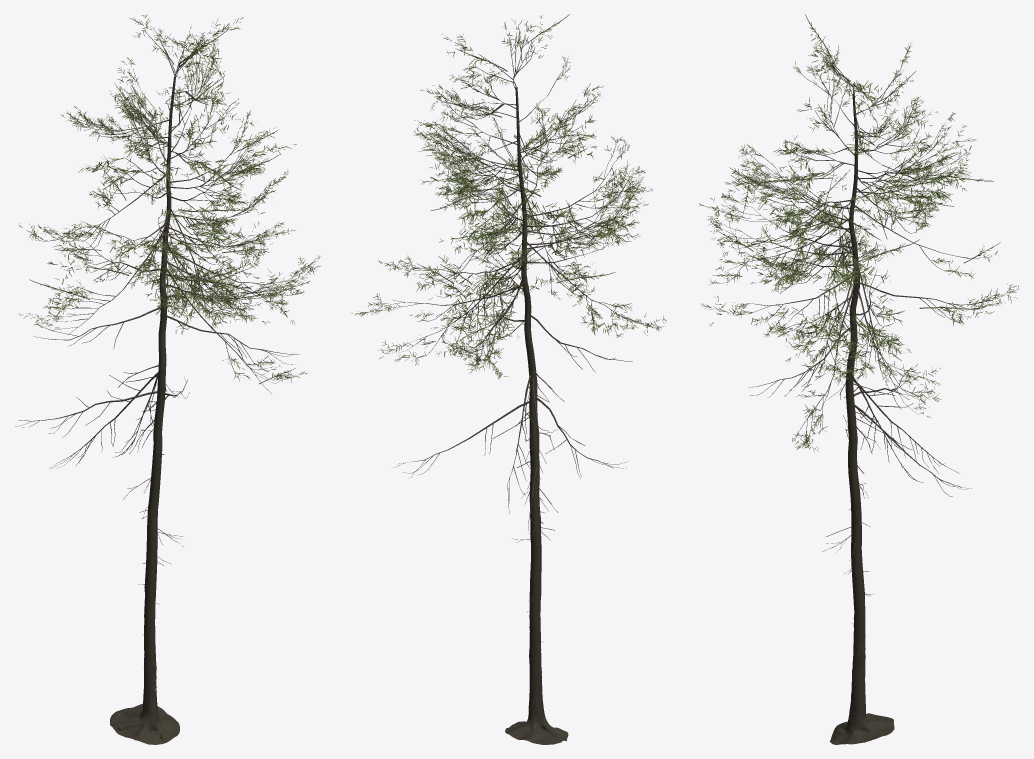
File: fir_tree_01_c.glb
3 renders of one model, left to right at view 1: azimuth 30°, elevation 25°; view 2: azimuth 150°, elevation 25°; view 3: azimuth 270°, elevation 25°, orthographic. The views are drawn at different scales.
Parts seen in each view (by area): view 1: fir_tree_01_c_LOD0.002, fir_tree_01_c_LOD0.001, fir_tree_01_c_LOD0, fir_tree_01_c_LOD0.003; view 2: fir_tree_01_c_LOD0.002, fir_tree_01_c_LOD0.001, fir_tree_01_c_LOD0; view 3: fir_tree_01_c_LOD0.002, fir_tree_01_c_LOD0.001, fir_tree_01_c_LOD0.
Boxes of the visible parts, <box> form: fir_tree_01_c_LOD0.002: <box>19,14,320,384</box>; fir_tree_01_c_LOD0.001: <box>15,32,299,468</box>; fir_tree_01_c_LOD0: <box>110,76,179,744</box>; fir_tree_01_c_LOD0.003: <box>118,365,183,635</box>; fir_tree_01_c_LOD0.002: <box>351,14,666,378</box>; fir_tree_01_c_LOD0.001: <box>384,32,655,549</box>; fir_tree_01_c_LOD0: <box>505,87,568,744</box>; fir_tree_01_c_LOD0.002: <box>699,14,1018,451</box>; fir_tree_01_c_LOD0.001: <box>720,53,1004,496</box>; fir_tree_01_c_LOD0: <box>829,93,894,744</box>.
Bounding box in the file's own units: 6.32 × 14.62 × 5.92.
4 materials, 4 textured.
